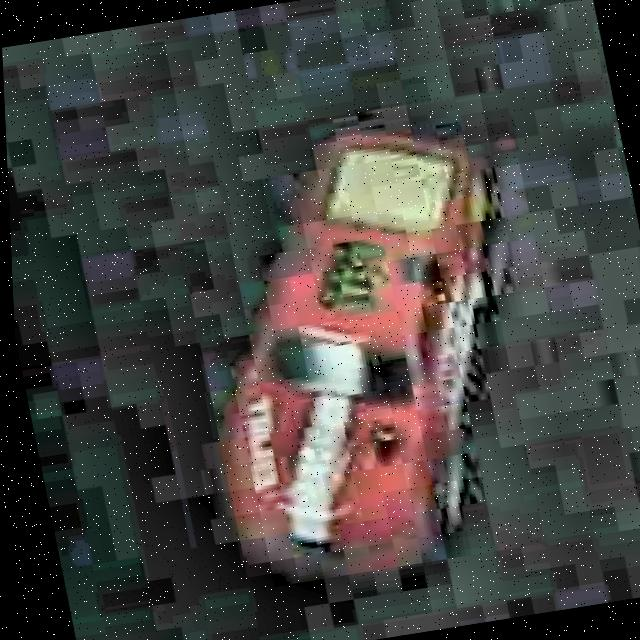car: (153, 101, 582, 602)
